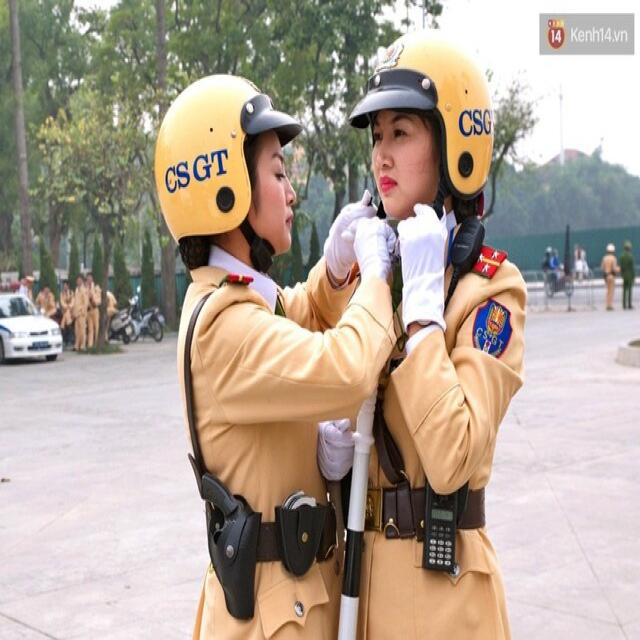Helmet: (338, 19, 501, 264), (151, 68, 303, 272)
